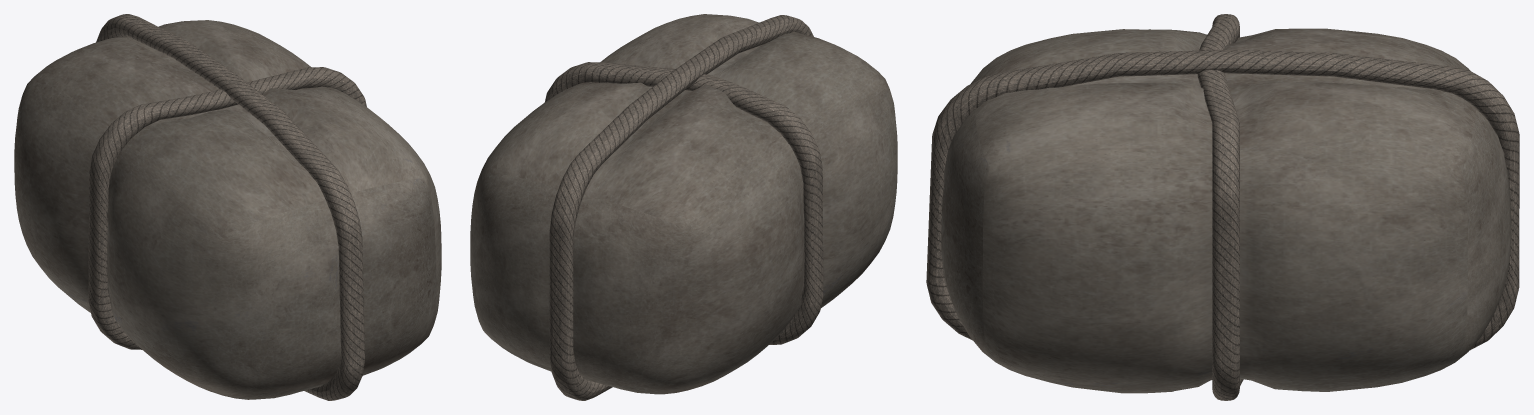
File: SM_Ship_Cargo_02.fbx
3 renders of one model, left to right at view 1: azimuth 30°, elevation 25°; view 2: azimuth 150°, elevation 25°; view 3: azimuth 270°, elevation 25°, orthographic. The views are drawn at different scales.
Parts seen in each view (by area): view 1: SM_Ship_Cargo_02_LOD0; view 2: SM_Ship_Cargo_02_LOD0; view 3: SM_Ship_Cargo_02_LOD0.
Part boxes in pixels (x1=…): SM_Ship_Cargo_02_LOD0: x1=14, y1=14, x2=441, y2=400; SM_Ship_Cargo_02_LOD0: x1=470, y1=14, x2=897, y2=400; SM_Ship_Cargo_02_LOD0: x1=926, y1=14, x2=1519, y2=400.
Bounding box in the file's own units: 58.79 × 90.29 × 52.3.
